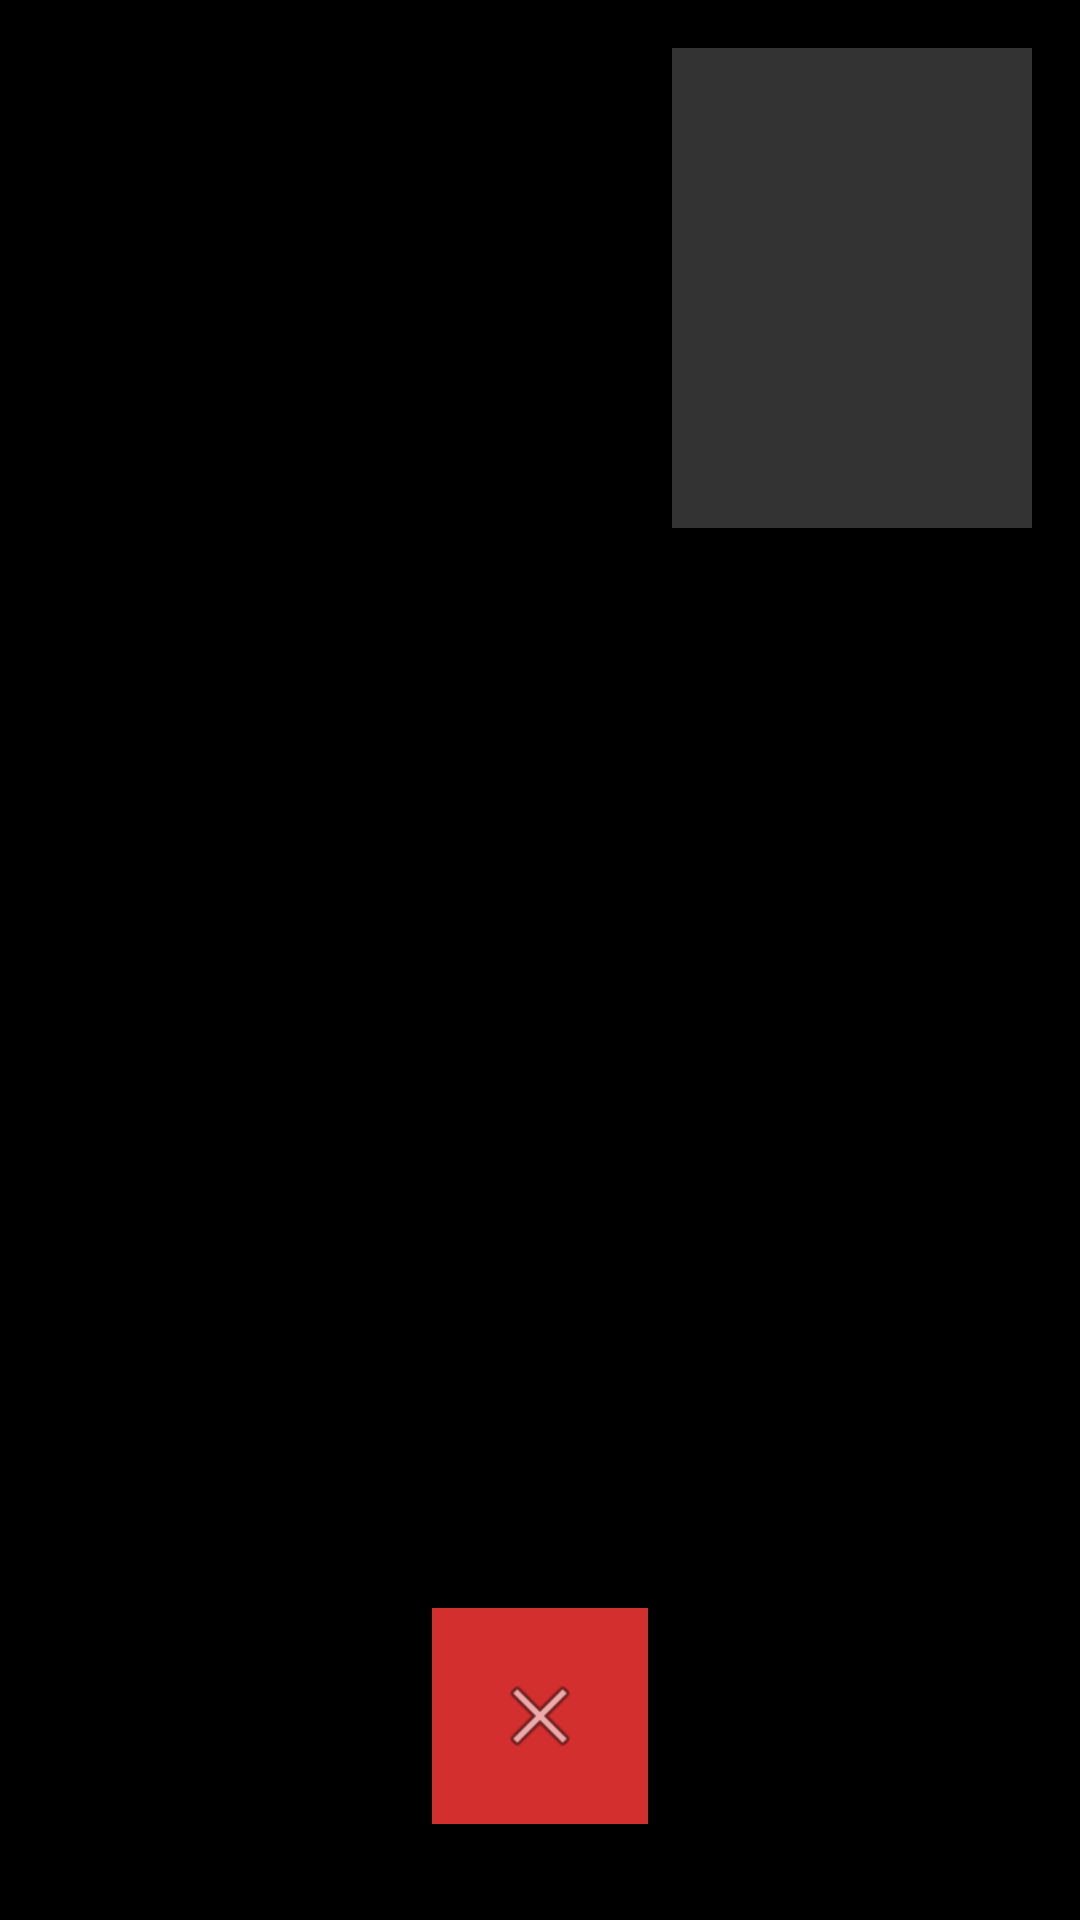

Icon click points for this 1080px x 1920px phone screenshot, format point (x, y):
End Call: point (540, 1716)
